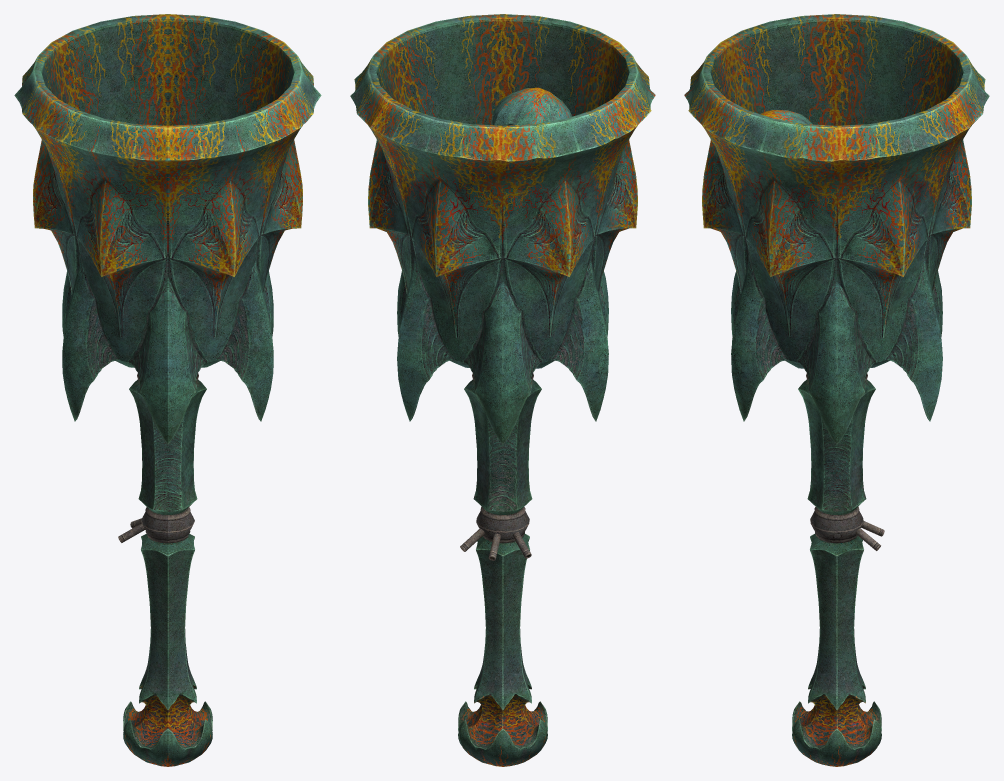
Rendered from hue031.obj.
3 renders of one model, left to right at view 1: azimuth 30°, elevation 25°; view 2: azimuth 150°, elevation 25°; view 3: azimuth 270°, elevation 25°, orthographic.
Parts seen in each view (by area): view 1: hue031_000_LOD_1; view 2: hue031_000_LOD_1, hue031_002_LOD_1, hue031_001_LOD_1; view 3: hue031_000_LOD_1.
Boxes of the visible parts, bbox=[...] form: hue031_000_LOD_1: bbox=[14, 14, 321, 766]; hue031_000_LOD_1: bbox=[350, 14, 655, 766]; hue031_002_LOD_1: bbox=[491, 87, 571, 125]; hue031_001_LOD_1: bbox=[460, 528, 531, 560]; hue031_000_LOD_1: bbox=[684, 14, 989, 766].
Bounding box in the file's own units: 110 × 275 × 110.
